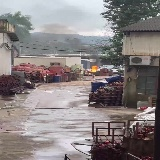fire: (89, 66, 97, 72)
